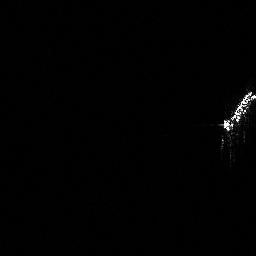ship: (217, 88, 256, 150)
